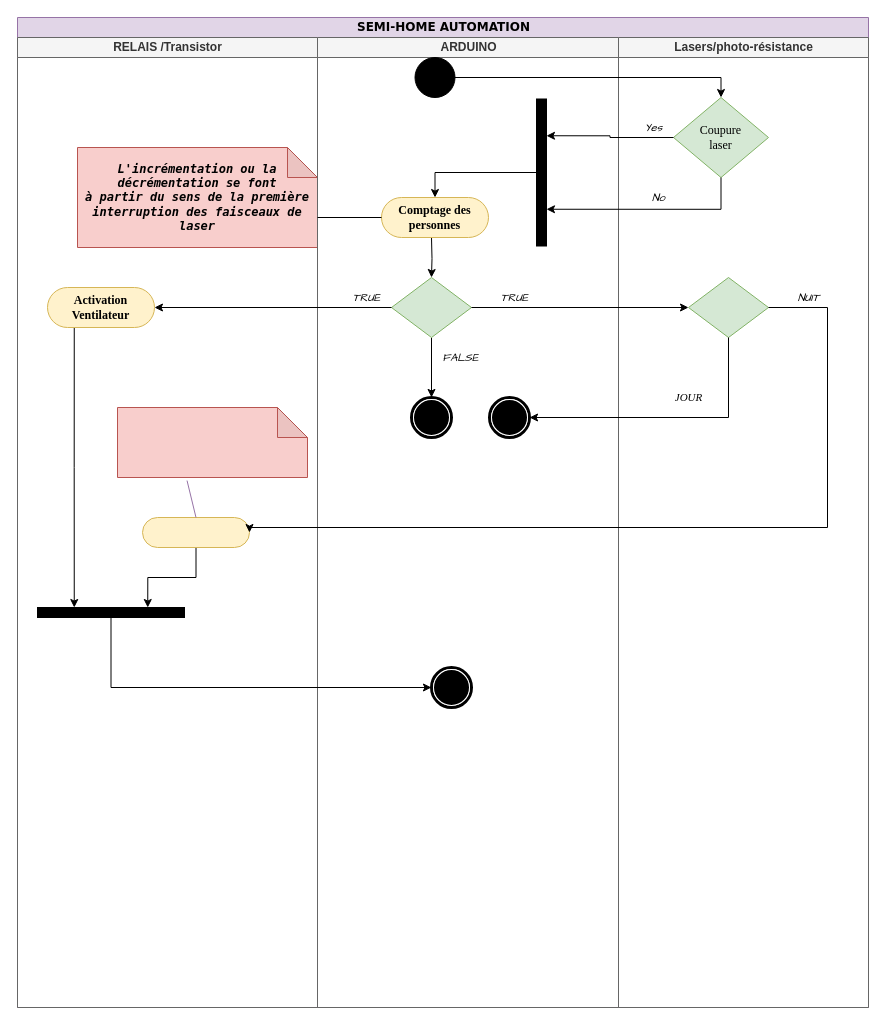
This 886x1025 diagram has some shape labels left out. The centre of each missing label's shape, as x and y in pixels:
Ceci se fait grâce à l'activation d'un relais: (212,442)
Eclairage: (196,532)
Jour ou nuit: (728,307)
Num_per >0: (431,307)
